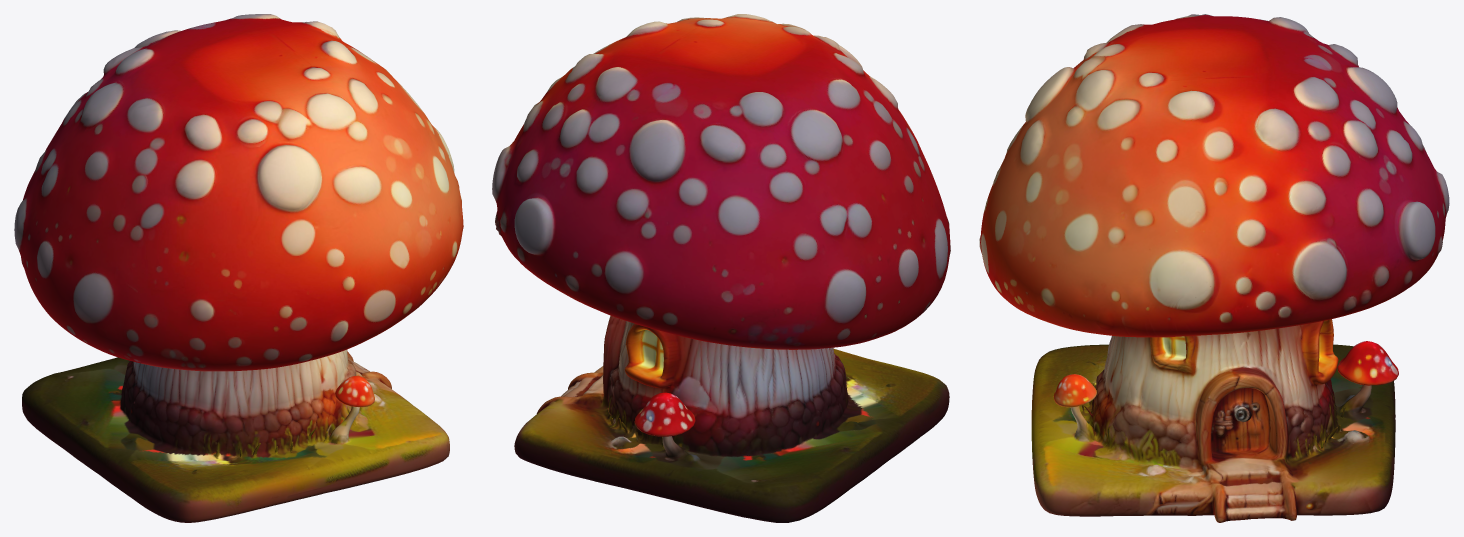
Rendered from cartoon house.fbx.
3 renders of one model, left to right at view 1: azimuth 30°, elevation 25°; view 2: azimuth 150°, elevation 25°; view 3: azimuth 270°, elevation 25°, orthographic. The views are drawn at different scales.
Parts seen in each view (by area): view 1: tripo_node_6eccbb81; view 2: tripo_node_6eccbb81; view 3: tripo_node_6eccbb81.
Part boxes in pixels (<box>): tripo_node_6eccbb81: <box>14,14,463,522</box>; tripo_node_6eccbb81: <box>492,14,950,522</box>; tripo_node_6eccbb81: <box>979,14,1449,522</box>.
Bounding box in the file's own units: 99.82 × 93.13 × 99.59.
1 material, 1 textured.
